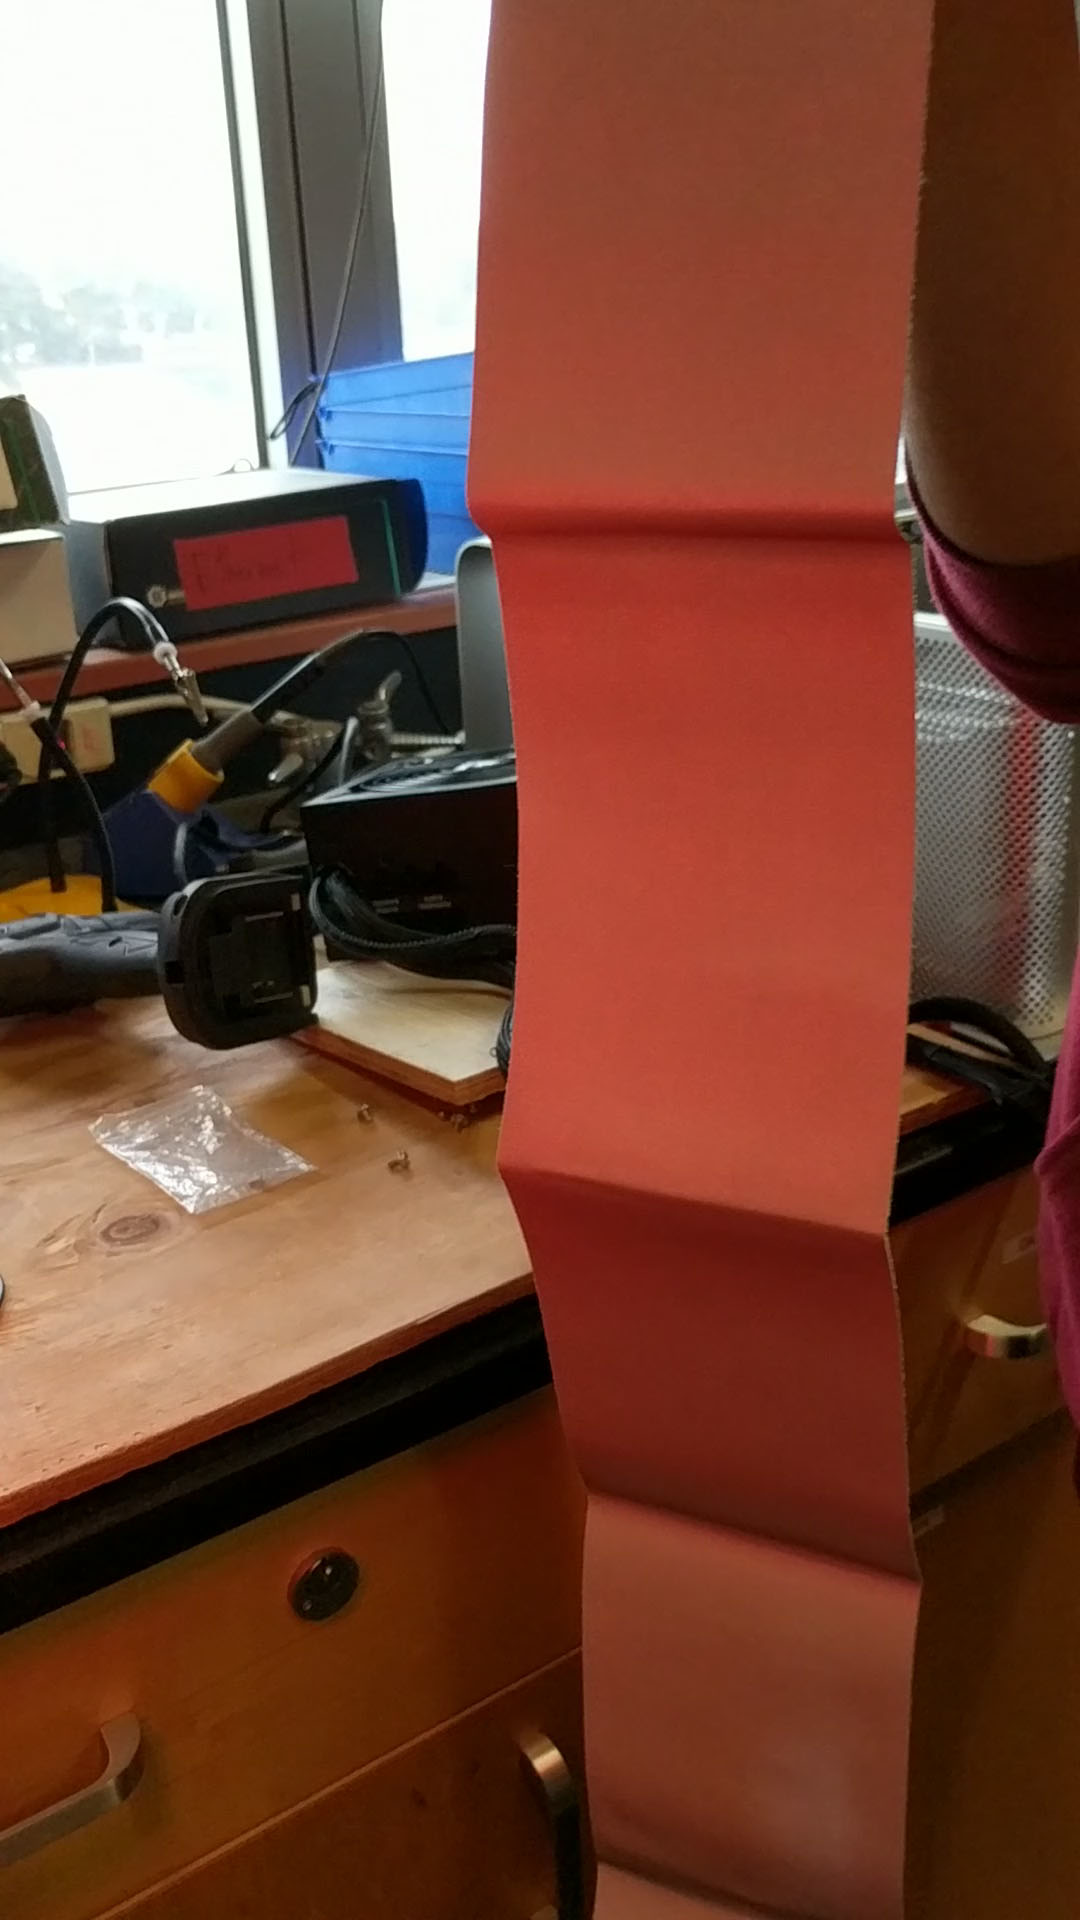gear: (468, 0, 936, 1920)
